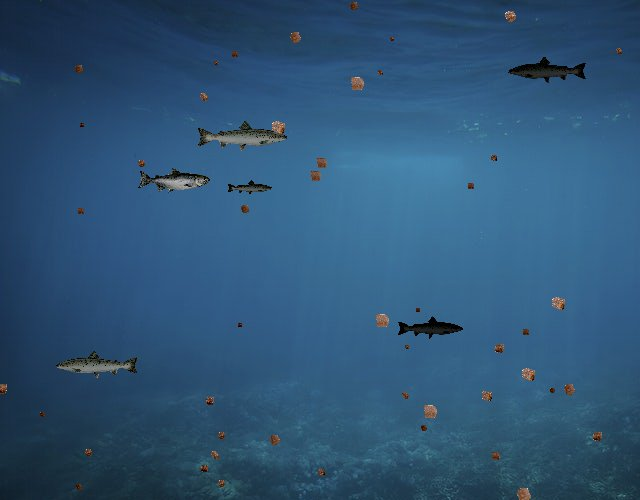Fish: (196, 119, 290, 153), (54, 349, 140, 380), (507, 55, 588, 84), (138, 168, 211, 194), (397, 316, 465, 340), (227, 180, 274, 197)
Pellet: (498, 4, 523, 29), (344, 0, 362, 15), (80, 444, 96, 460), (486, 151, 501, 165), (546, 384, 559, 397), (210, 58, 220, 68)
